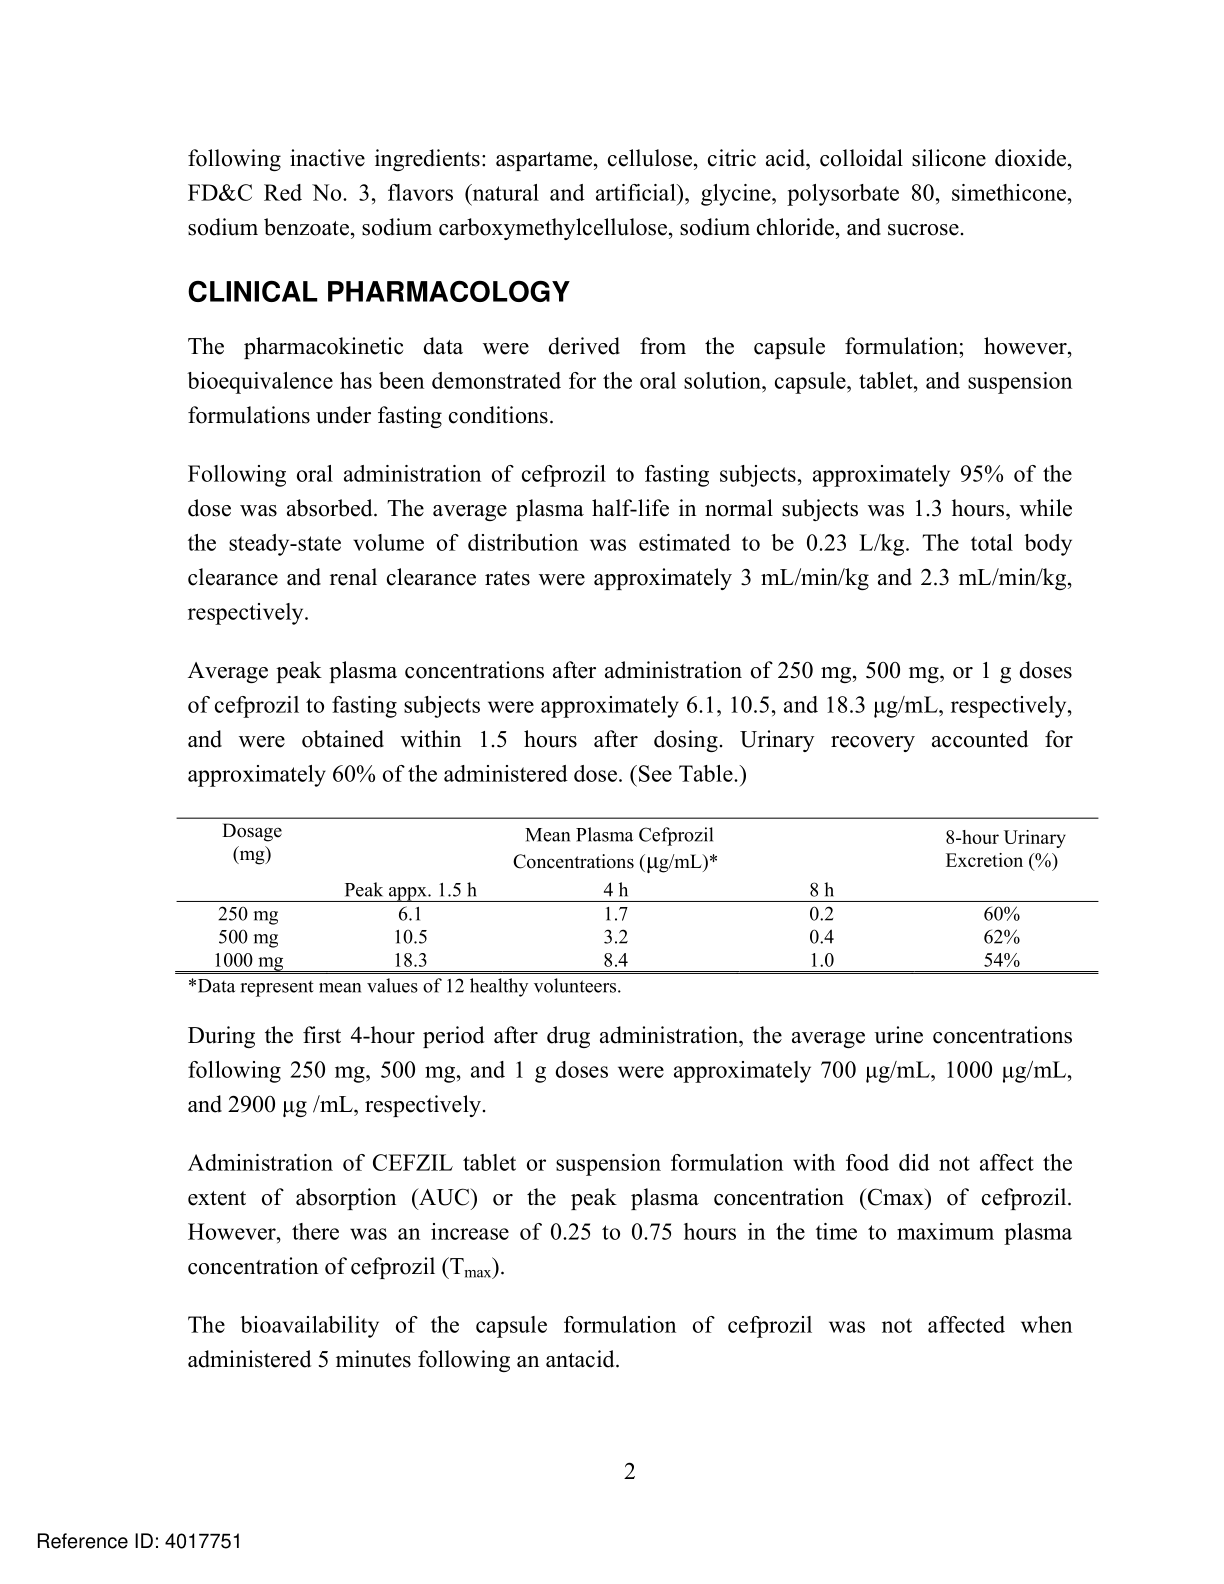partial_lined: (176, 815, 1101, 976)
